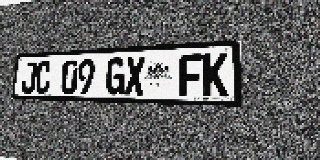0: (60, 60, 78, 94)
9: (76, 59, 95, 94)
C: (35, 61, 52, 94)
F: (179, 54, 202, 96)
G: (105, 57, 126, 95)
J: (21, 61, 37, 93)
K: (203, 53, 228, 97)
X: (124, 56, 145, 95)
